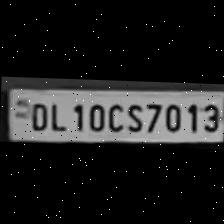0: (160, 98, 184, 132), (84, 98, 106, 131)
1: (67, 97, 85, 130), (182, 100, 200, 132)
3: (198, 98, 220, 132)
7: (141, 98, 161, 132)
C: (104, 97, 124, 130)
D: (26, 96, 48, 130)
L: (46, 97, 68, 131)
S: (122, 98, 144, 132)
